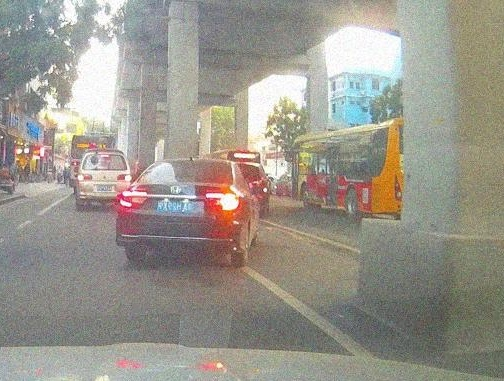L_light: (119, 191, 147, 208)
R_light: (205, 192, 240, 211)
T_light: (183, 161, 200, 165)
day-right: (115, 158, 240, 267)
